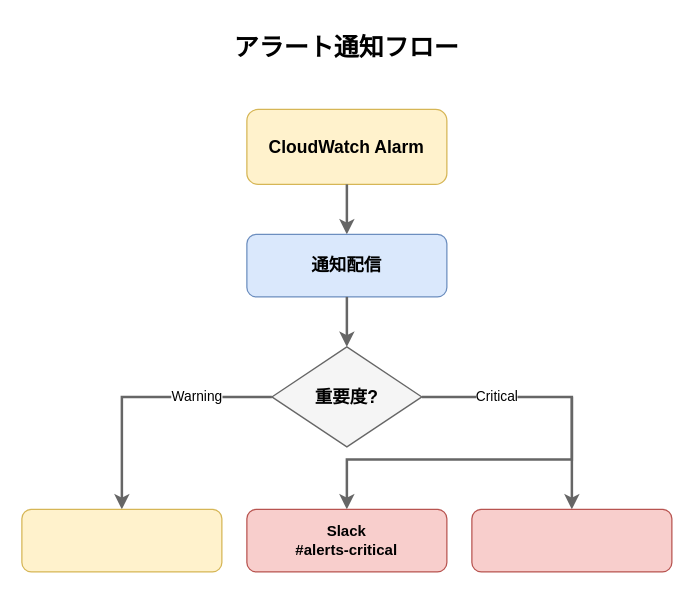
The diagram is 694 pixels wide and 594 high, and some of its shapes have lost their labels. The shapes that lost their labels are listed below. From the top down, each one's box as (x1, y1, x2, y2) in pixels, then its label:
(21, 508, 222, 572): Slack #alerts-warning
(471, 508, 672, 572): Email 運用チームML
